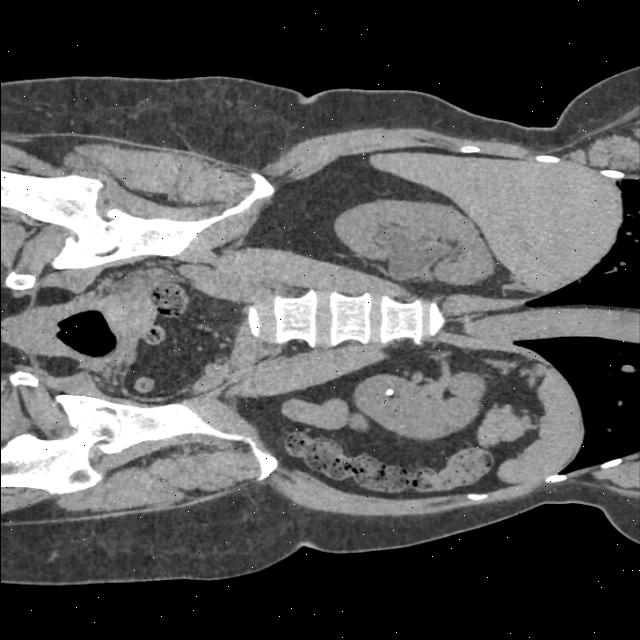kidneystone: (384, 389, 393, 396)
